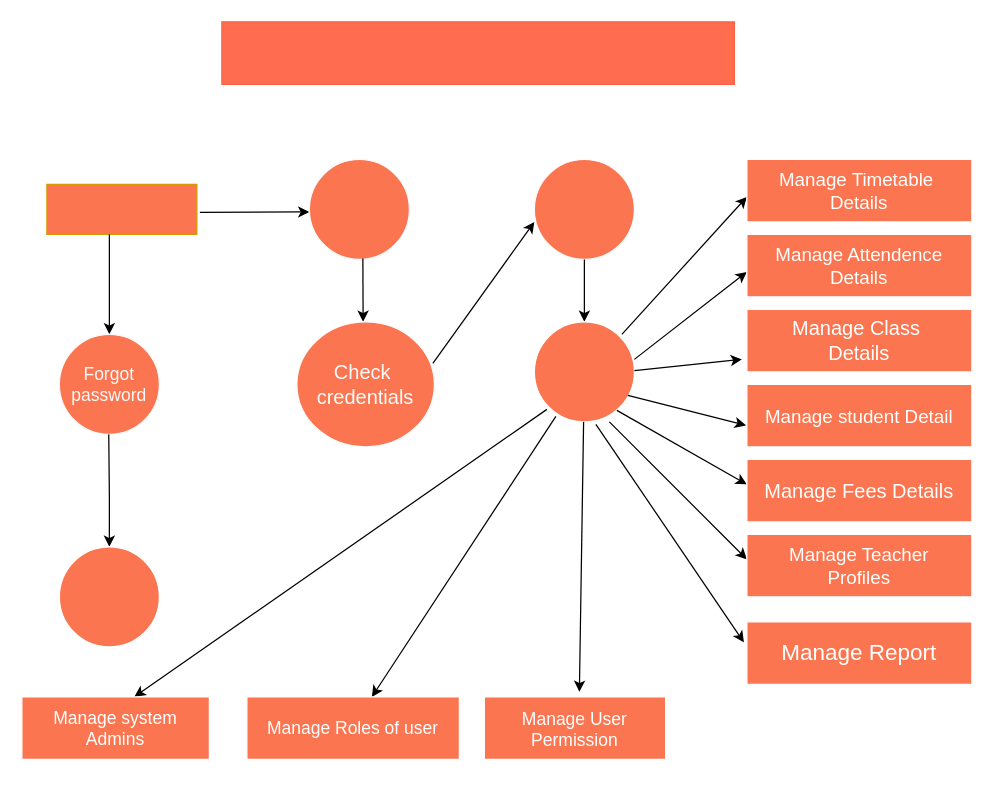
Image size: 994x790. Some labels were removed from this diagram. The centre of each missing label's shape, as x and y in pixels:
"Admin" goes at [121,208].
"Check Roles of Access" goes at [583,208].
"login to system" goes at [358,208].
"Manage Modules" goes at [583,371].
"Send Email to user" goes at [108,596].
"student Information system" goes at [477,52].
